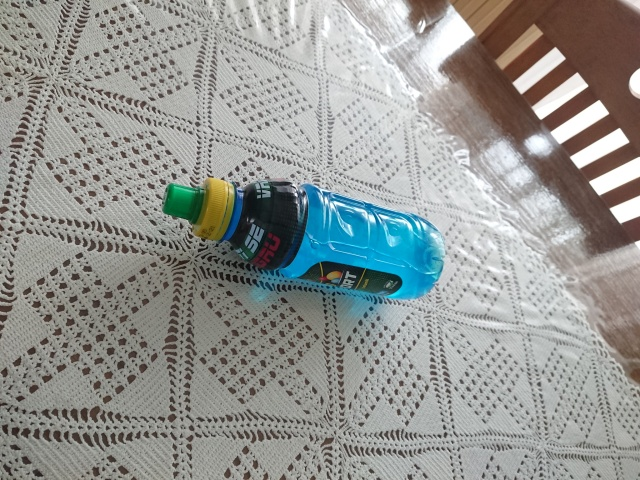Vindi Iso Sport Forest Strawberries 500mL: (160, 175, 448, 302)
